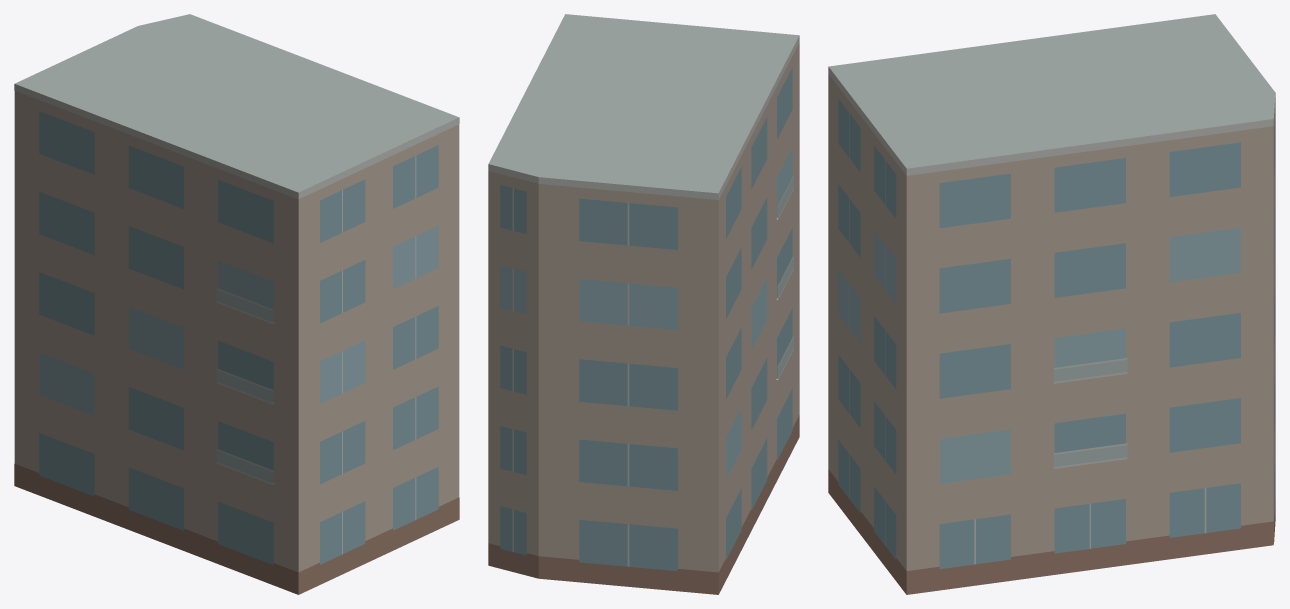
File: survey-upis-32615579.glb
3 renders of one model, left to right at view 1: azimuth 30°, elevation 25°; view 2: azimuth 150°, elevation 25°; view 3: azimuth 270°, elevation 25°, orthographic. The views are drawn at different scales.
Parts seen in each view (by area): view 1: survey-upis-32615579.tmp; view 2: survey-upis-32615579.tmp; view 3: survey-upis-32615579.tmp.
Boxes of the visible parts, x1,y1,x2,y2 form: survey-upis-32615579.tmp: [14, 14, 459, 594]; survey-upis-32615579.tmp: [488, 14, 799, 594]; survey-upis-32615579.tmp: [828, 14, 1275, 594].
Size of the model in its own units: 11.3 by 14.5 by 13.8.
